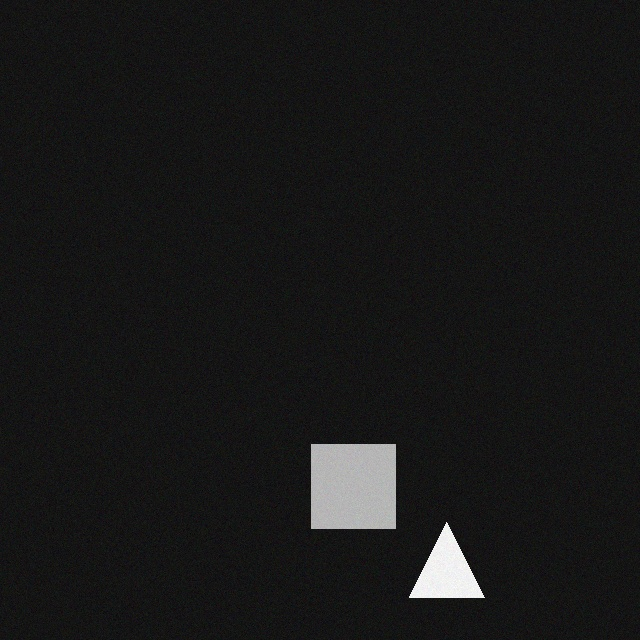square: (298, 450, 382, 534)
triangle: (396, 528, 471, 603)
